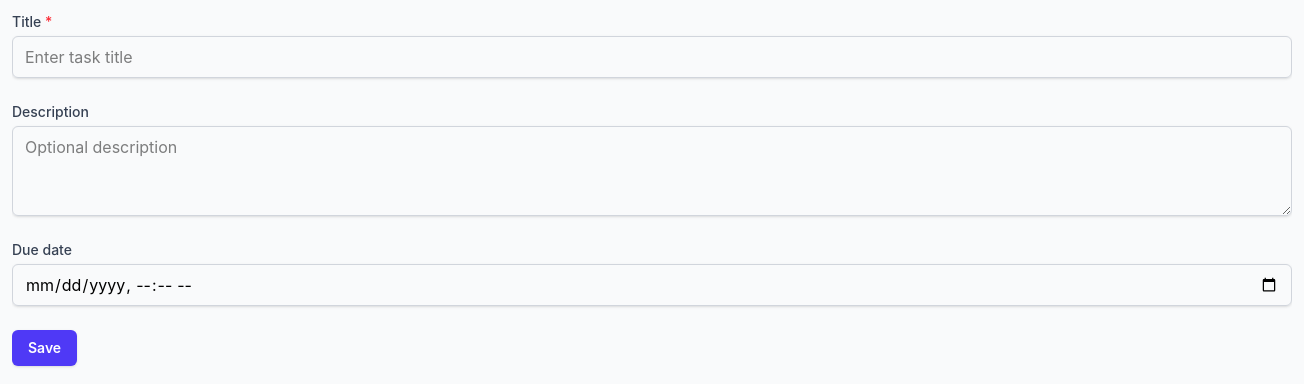
Test case: disables button while submitting
This screenshot has width=1304, height=384.
Type "Task" into the field labelled "Title *" at coordinates (652, 57), box [12,36,1292,78]
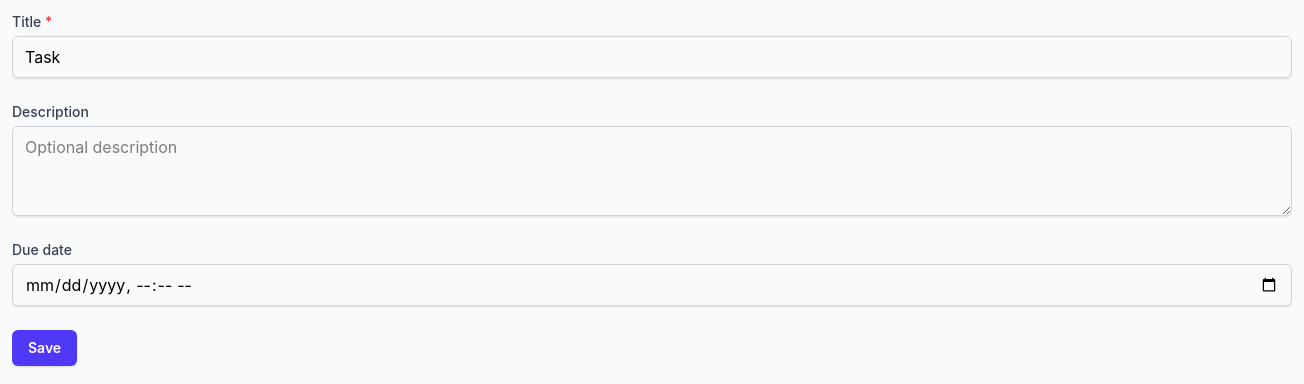
Click the button "Save" at coordinates (45, 348), box [12,330,77,366]
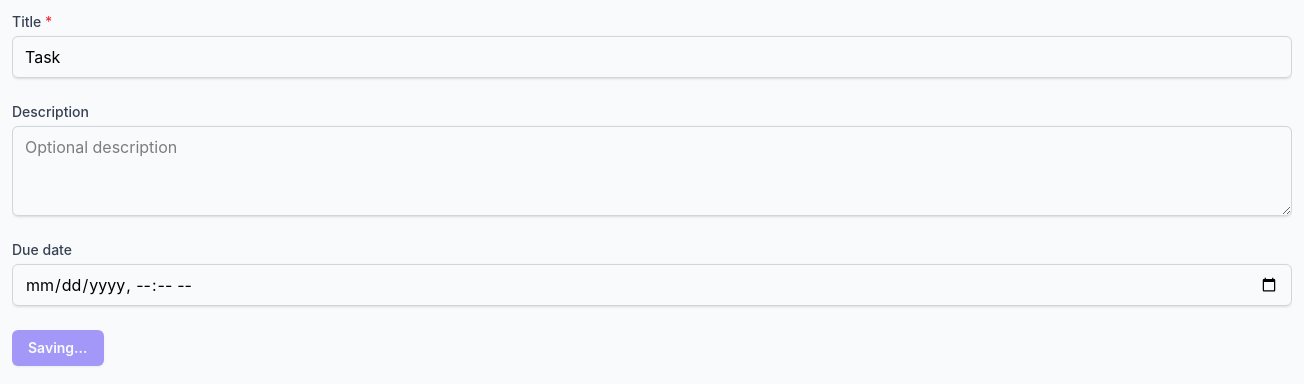
Expected: the button "Saving…" is disabled, [12,330,104,366]
